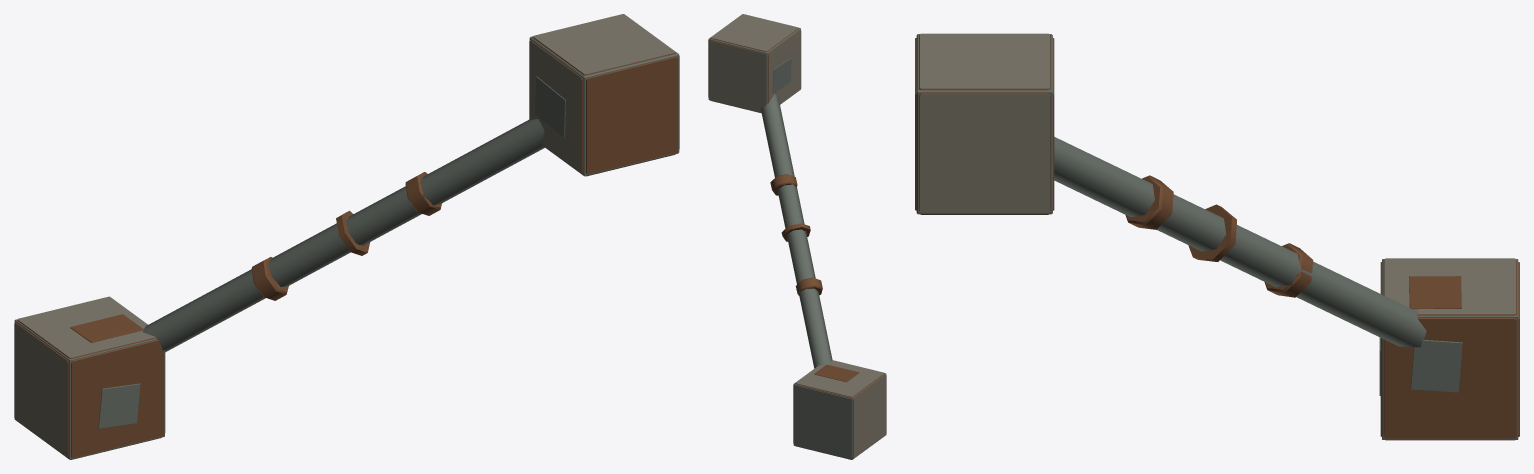
The model's file is R4C_ROD_DIAG_3D.fbx.
3 views of the same model, side by side, from view 1: azimuth 30°, elevation 25°; view 2: azimuth 150°, elevation 25°; view 3: azimuth 270°, elevation 25° (orthographic). The views are drawn at different scales.
Parts seen in each view (by area): view 1: R4C_ROD_DIAG_3D; view 2: R4C_ROD_DIAG_3D; view 3: R4C_ROD_DIAG_3D.
Boxes of the visible parts, x1,y1,x2,y2 form: R4C_ROD_DIAG_3D: (14, 14, 679, 459); R4C_ROD_DIAG_3D: (708, 14, 886, 459); R4C_ROD_DIAG_3D: (915, 33, 1519, 440).
Bounding box in the file's own units: 1.62 × 1.62 × 1.62.
